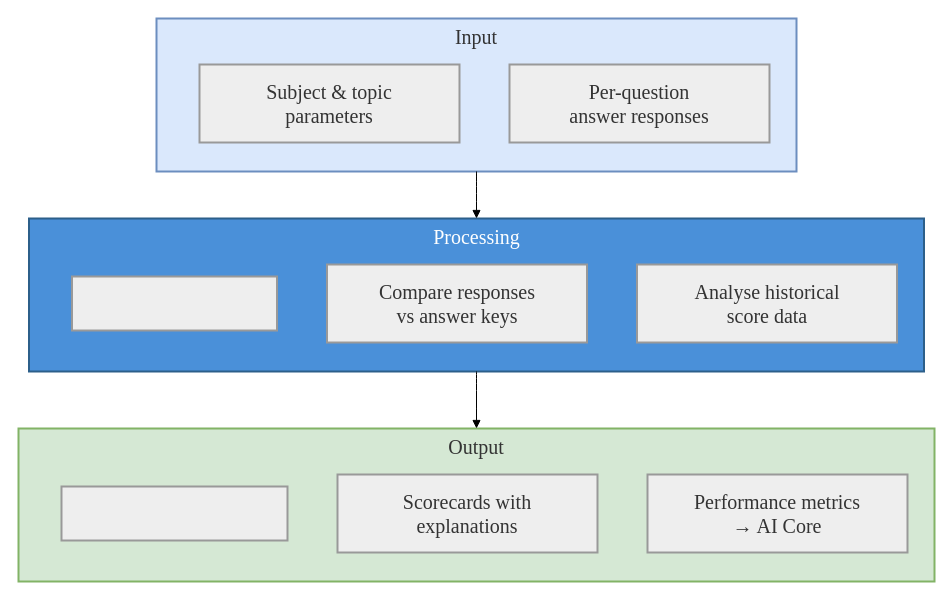
This 952x599 diagram has some shape labels left out. Here are the shapes that lost their labels. From the top down, the centre of each, then its label:
the point at 174,303: Forward to AI Core
the point at 174,513: Dynamic quiz sessions
